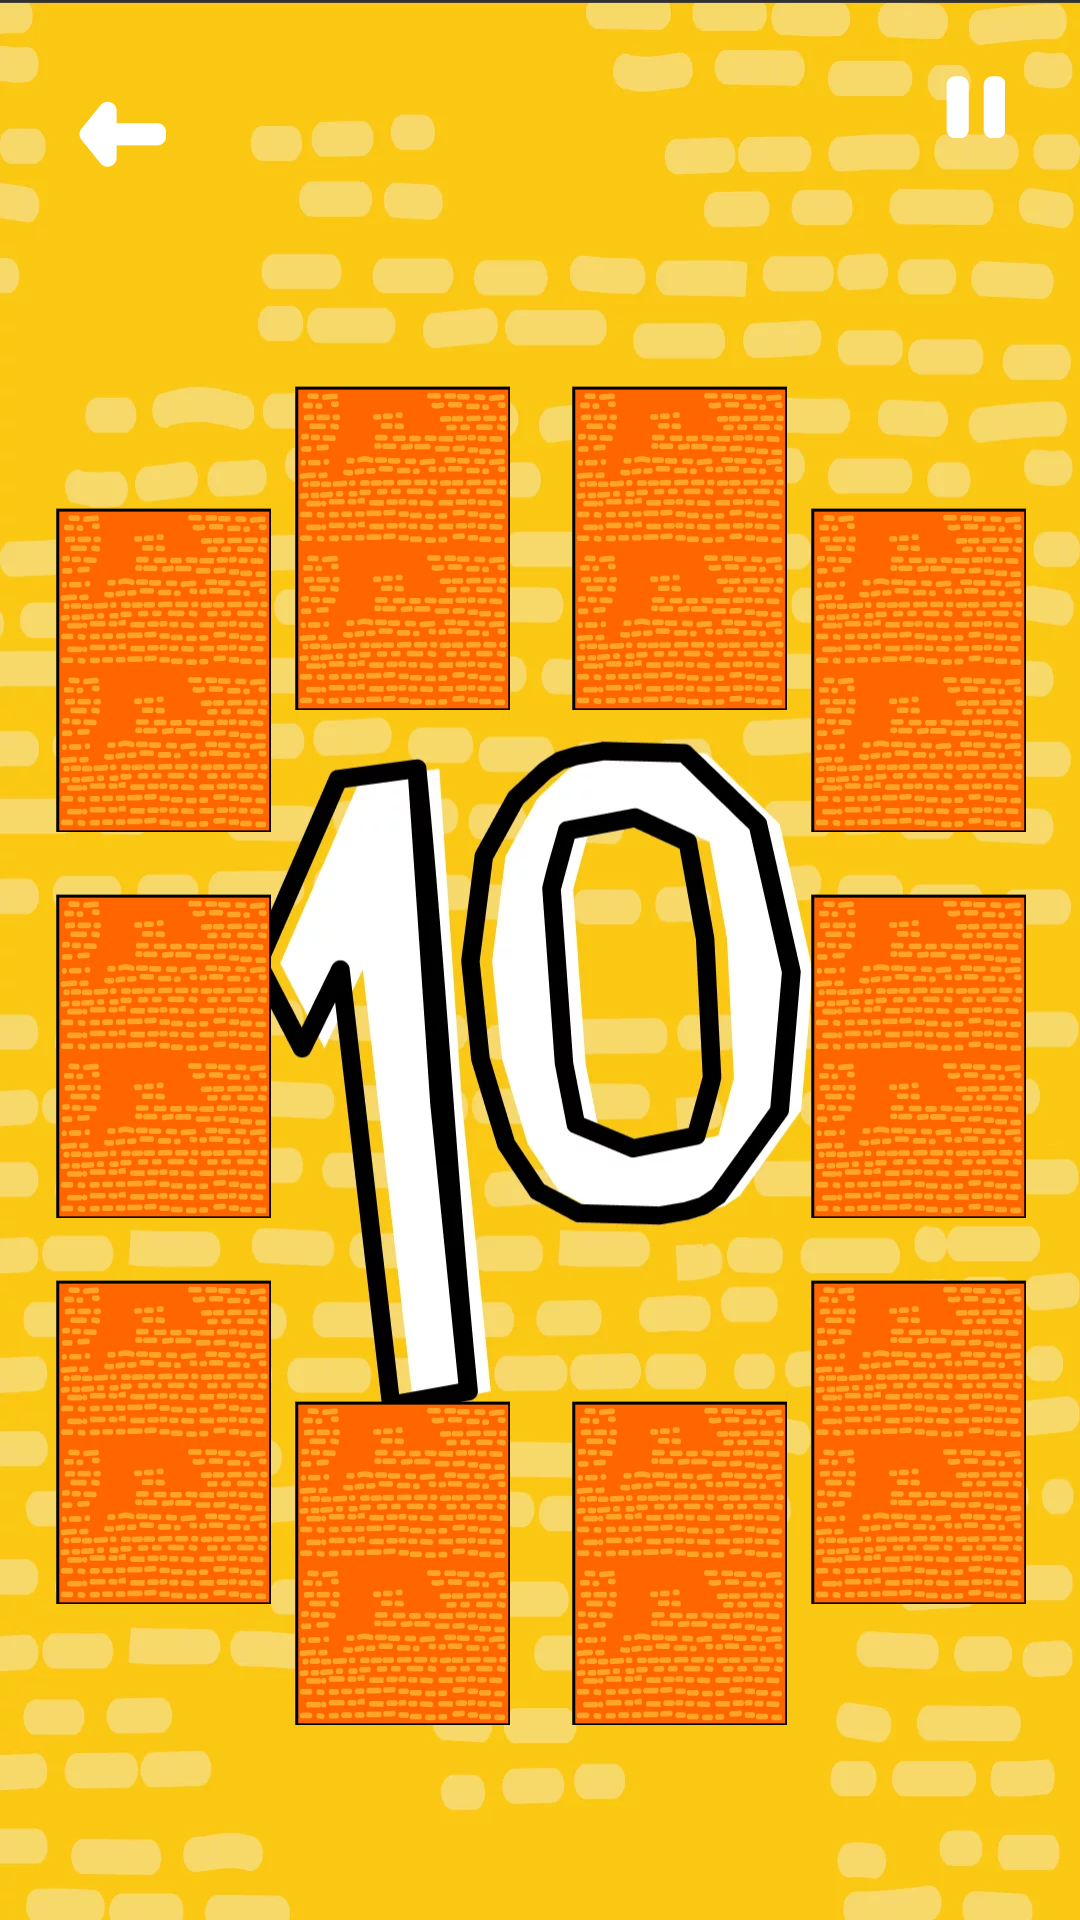

Named icons in this screenshot (1080*1920) and their centers, [x,y]:
pause: [975,106]
